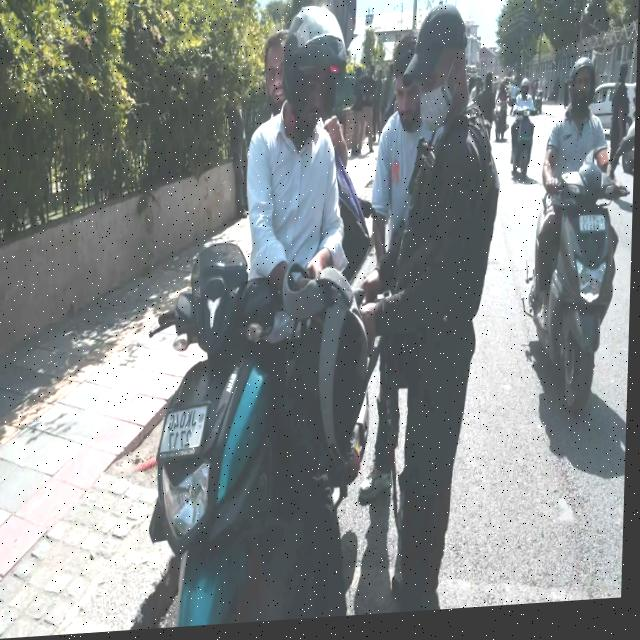plate: (154, 394, 218, 470), (577, 214, 612, 248)
